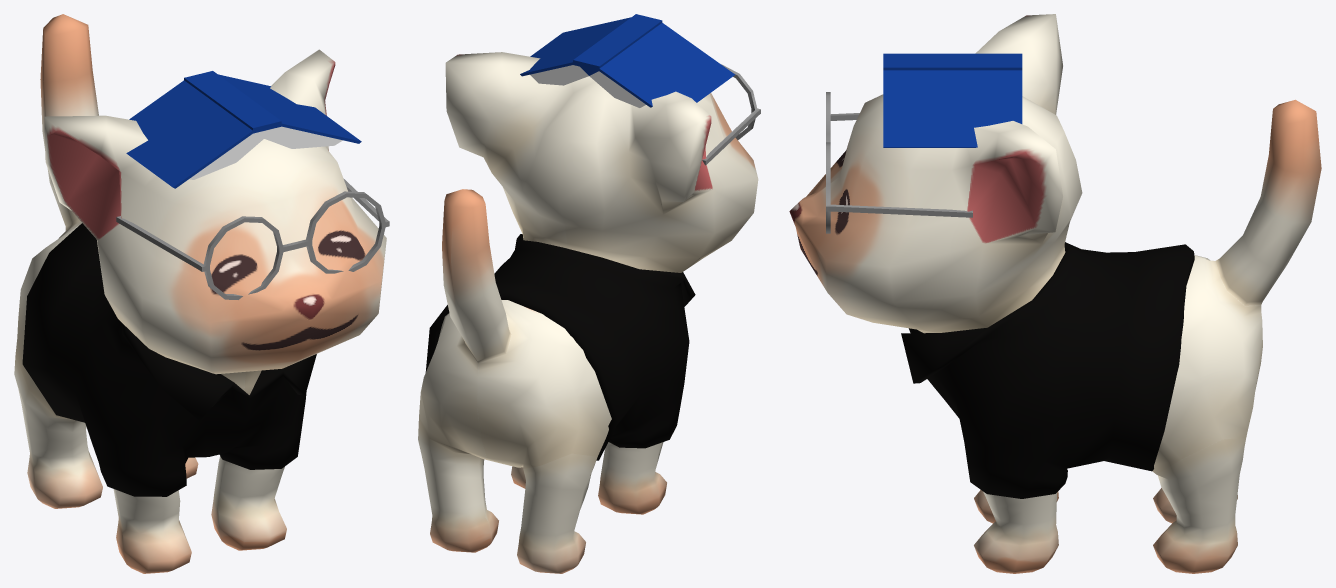
File: Library Cat02.fbx
3 renders of one model, left to right at view 1: azimuth 30°, elevation 25°; view 2: azimuth 150°, elevation 25°; view 3: azimuth 270°, elevation 25°, orthographic. The views are drawn at different scales.
Parts seen in each view (by area): view 1: Cat_Base001, Library_Cat_Shirt, Library_Cat_BookHat, Library_Cat_Glasses; view 2: Cat_Base001, Library_Cat_Shirt, Library_Cat_BookHat, Library_Cat_Glasses; view 3: Cat_Base001, Library_Cat_Shirt, Library_Cat_BookHat, Library_Cat_Glasses.
Part boxes in pixels (x1,y1,x2,y2): Cat_Base001: (14,14,386,573); Library_Cat_Shirt: (22,223,316,496); Library_Cat_BookHat: (126,71,361,188); Library_Cat_Glasses: (116,178,389,299); Cat_Base001: (418,52,758,573); Library_Cat_Shirt: (425,234,695,460); Library_Cat_BookHat: (520,14,735,107); Library_Cat_Glasses: (702,64,760,165); Cat_Base001: (789,14,1321,573); Library_Cat_Shirt: (901,242,1194,498); Library_Cat_BookHat: (883,53,1022,147); Library_Cat_Glasses: (826,92,972,233).
Bounding box in the file's own units: 1.75 × 2.83 × 2.81.
Materials: 5 (1 with a texture image).
